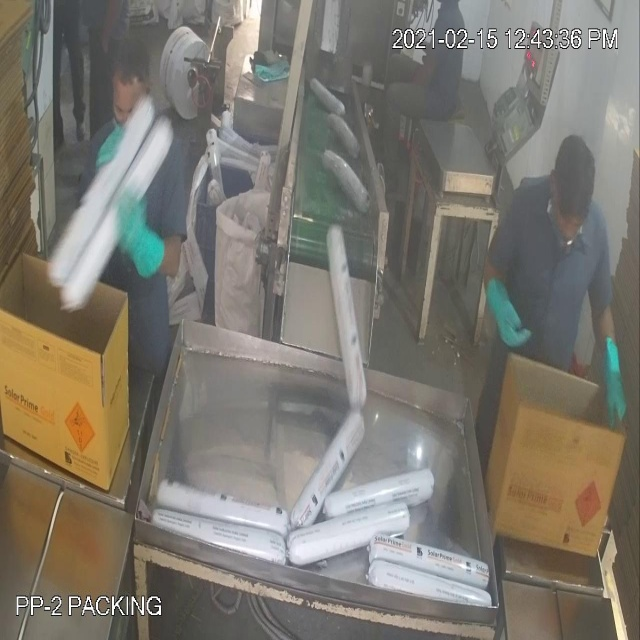Guantes: (480, 260, 543, 372), (108, 193, 167, 286), (599, 326, 631, 439)
